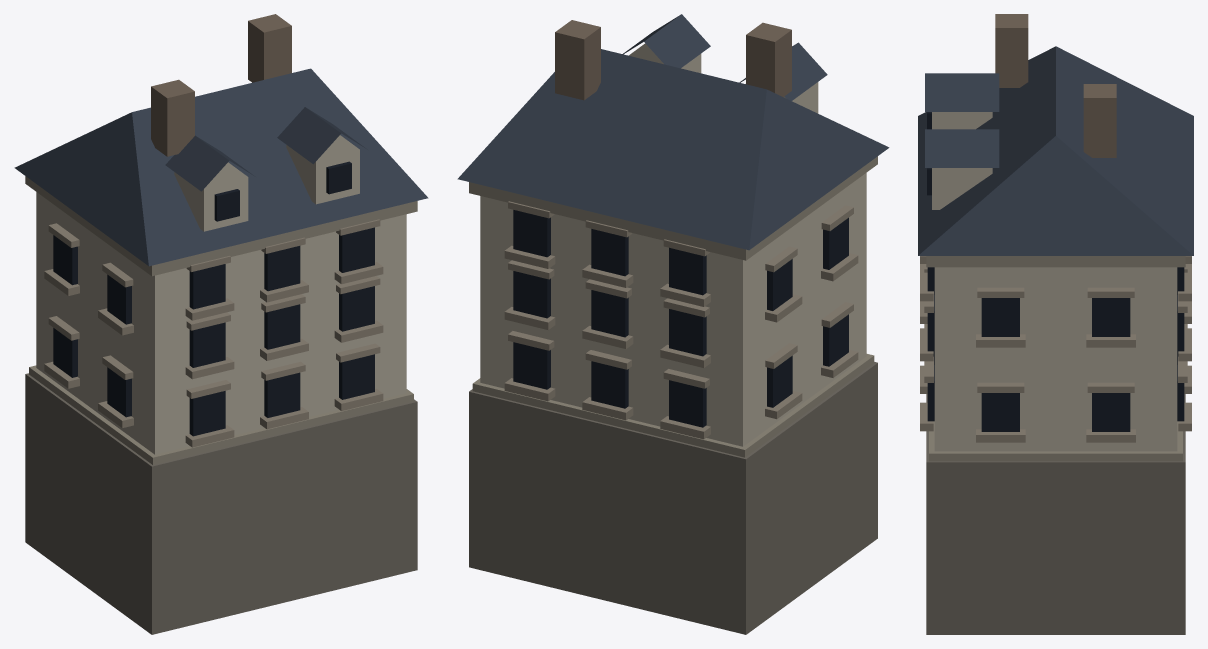
Rendered from bldg_north_mansard.glb.
3 views of the same model, side by side, from view 1: azimuth 30°, elevation 25°; view 2: azimuth 150°, elevation 25°; view 3: azimuth 270°, elevation 25° (orthographic). The views are drawn at different scales.
Parts seen in each view (by area): view 1: NorthMansard; view 2: NorthMansard; view 3: NorthMansard.
Boxes of the visible parts, bbox=[...] form: NorthMansard: bbox=[14, 14, 428, 634]; NorthMansard: bbox=[457, 14, 889, 634]; NorthMansard: bbox=[918, 14, 1193, 634].
Bounding box in the file's own units: 1.2 × 2.05 × 1.
